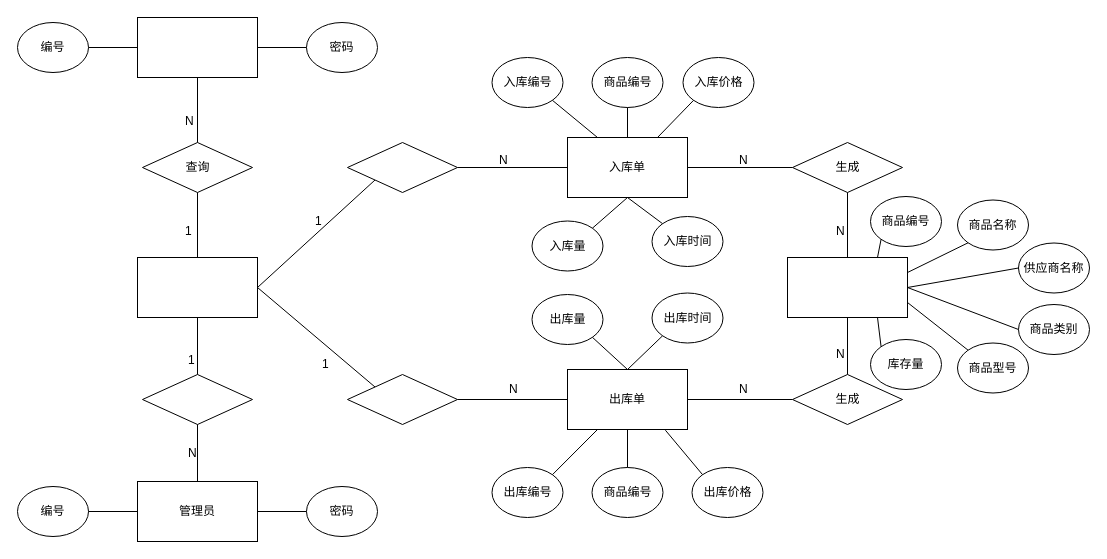
Some shapes in this 1107 by 559 pixel diagram are drawn without their labels. The shapes that lost their labels are listed below. From the top down, each one's centre as x and y in pixels, then its label:
At (197,47): "用户".
At (402,167): "入库".
At (197,287): "库存清单".
At (847,287): "商品".
At (197,399): "管理".
At (402,399): "出库".
